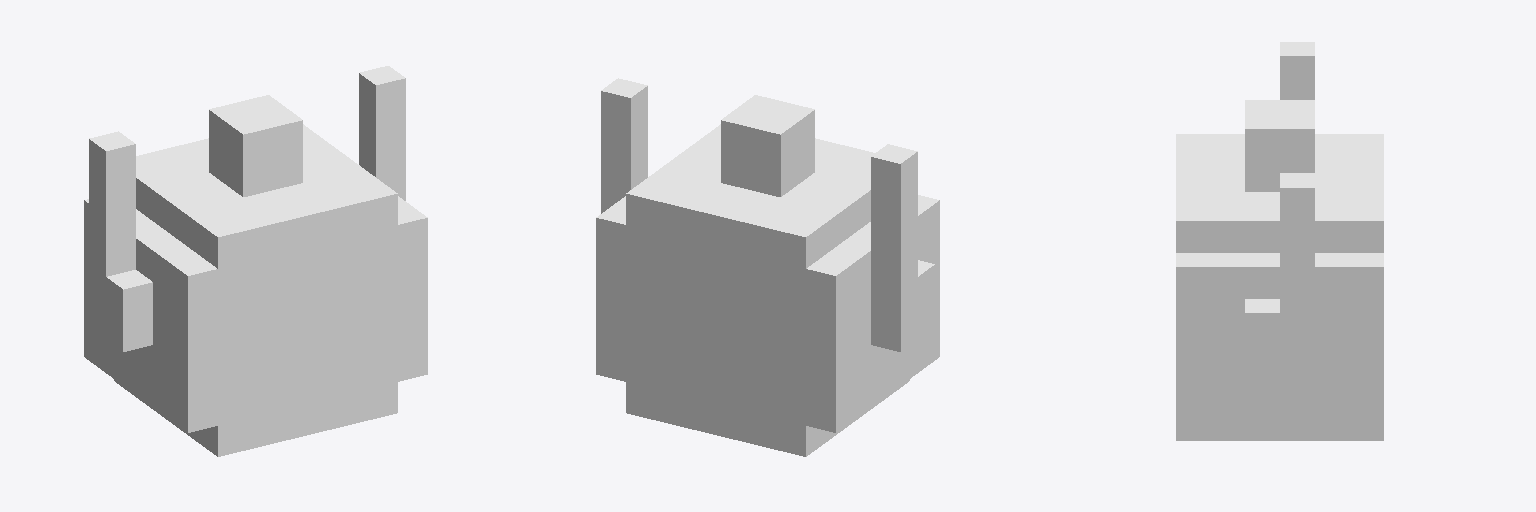
The model's file is robo_char.obj.
3 renders of one model, left to right at view 1: azimuth 30°, elevation 25°; view 2: azimuth 150°, elevation 25°; view 3: azimuth 270°, elevation 25°, orthographic.
Parts seen in each view (by area): view 1: object 1; view 2: object 1; view 3: object 1.
Part boxes in pixels (bbox=[...]): object 1: bbox=[84, 66, 427, 456]; object 1: bbox=[596, 78, 939, 456]; object 1: bbox=[1176, 42, 1383, 440].
Size of the model in its own units: 1 by 0.9 by 0.6.